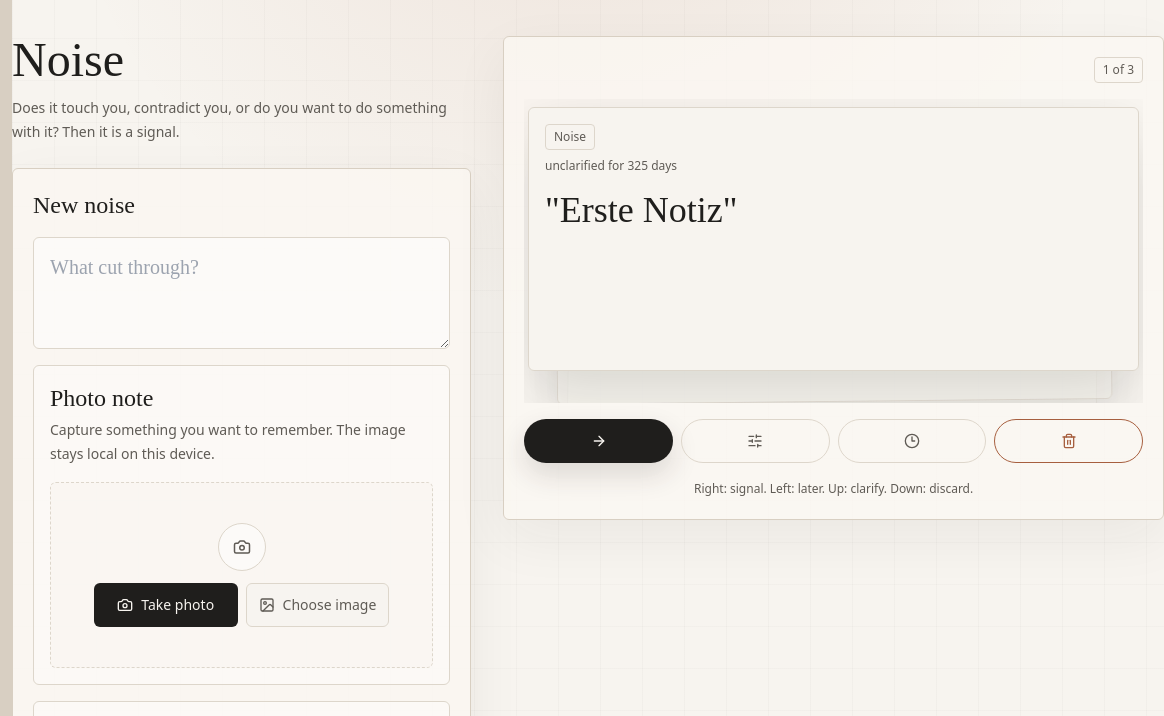
Test case: InboxPage › füllt den Entwurf beim Öffnen der Details mit den Werten des Eintrags
The width and height of the screenshot is (1164, 716).
Expected: the text "\"Erste Notiz\"" is shown, [545,190,738,230]
Step 1. Click the button named "Clarify" → (755,441), box [681,419,830,463]
(page scrolled)
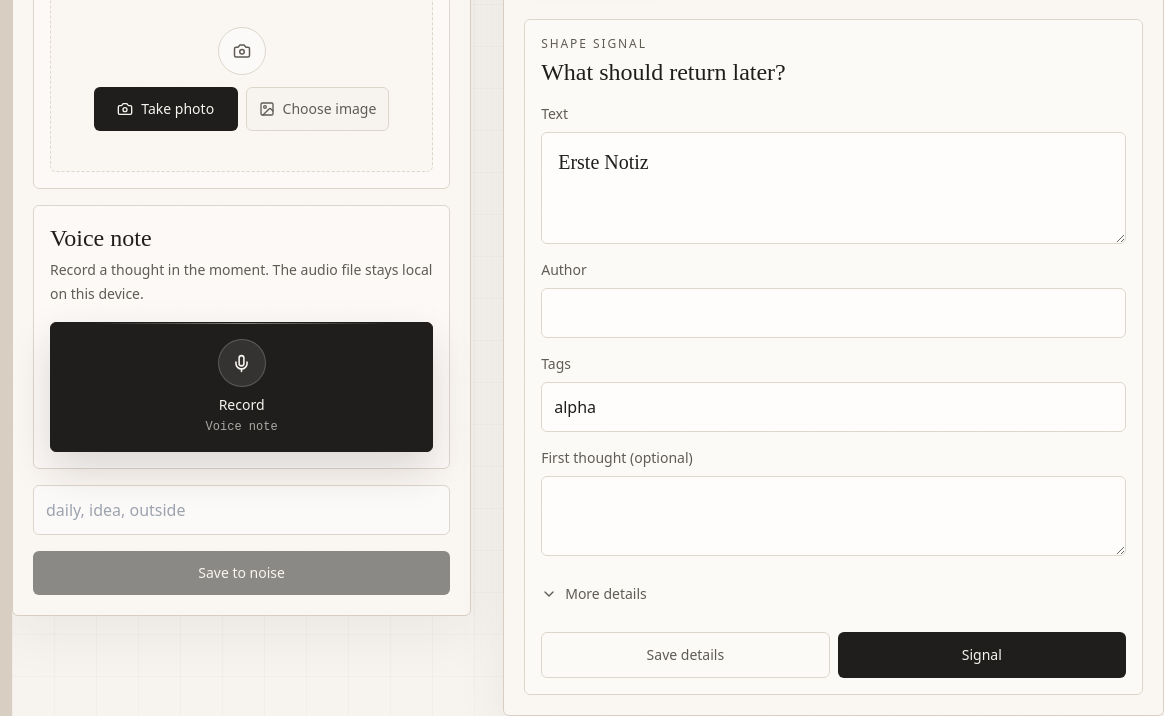
Expected: the text box labelled "Text" holds "Erste Notiz", [541,132,1126,244]
Expected: the field labelled "Tags" holds "alpha", [541,382,1126,432]
